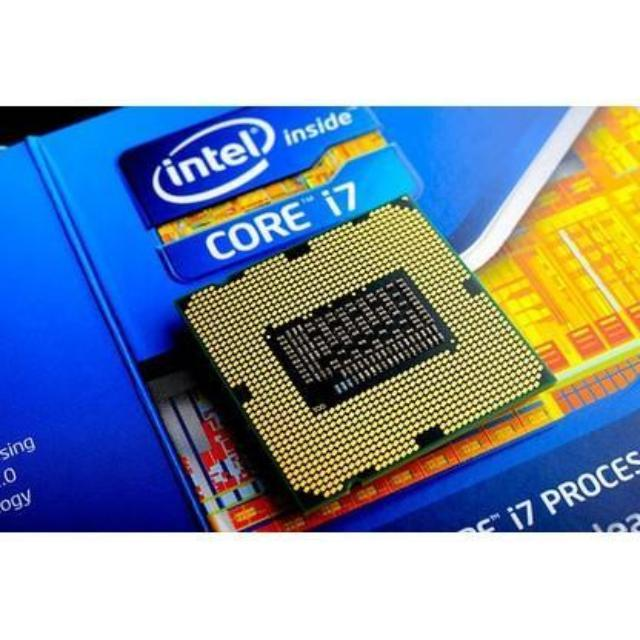CPU: (174, 215, 549, 502)
